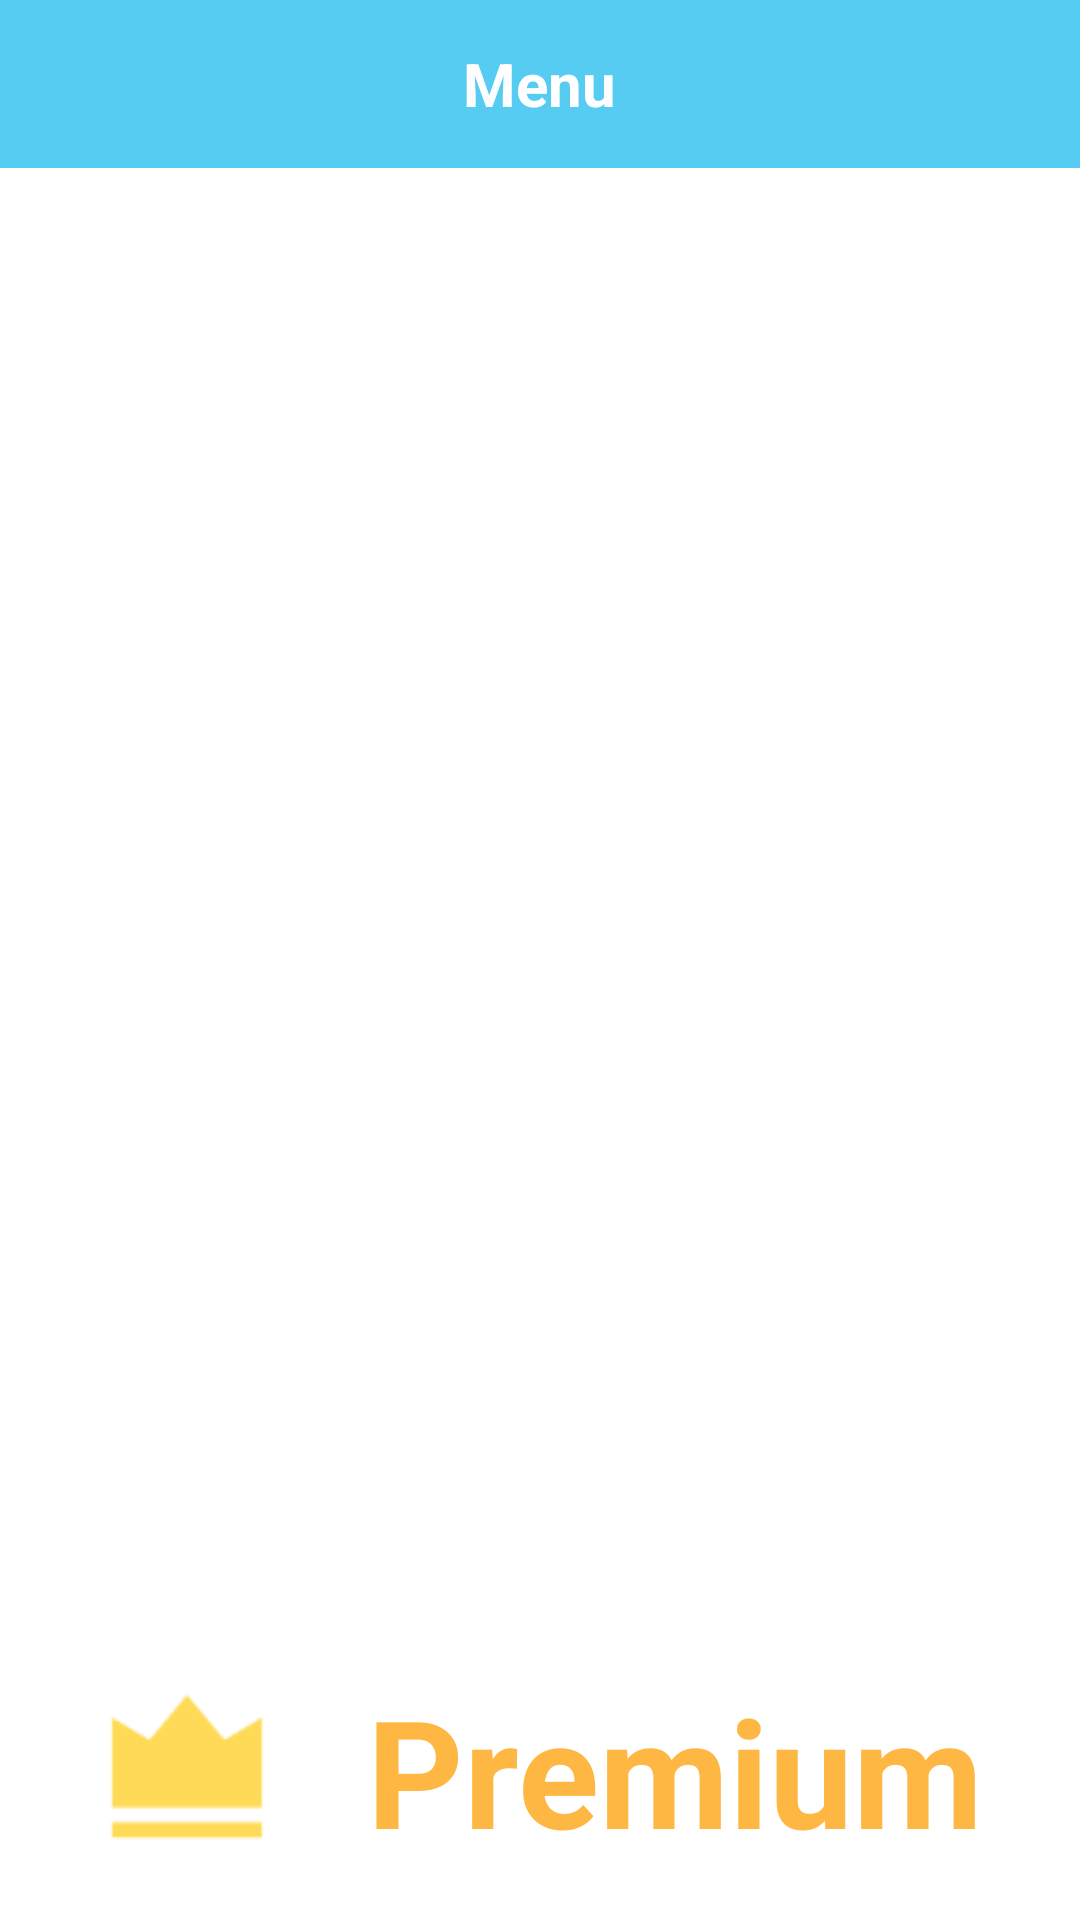

Icons on this 1080px×1920px Android screen, each with its box as (x1, y1, x2, y2):
Crown Icon: (111, 1695, 263, 1839)
